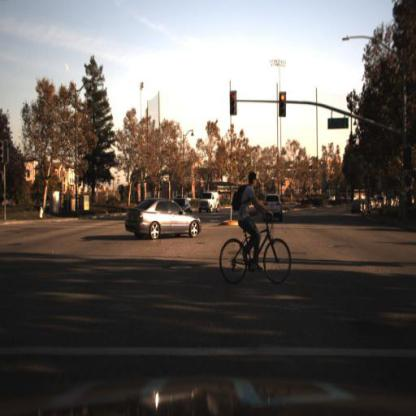biker: (220, 171, 296, 289), (219, 172, 294, 290)
car: (125, 192, 204, 238), (170, 197, 197, 226), (263, 191, 285, 224), (264, 193, 287, 222), (198, 191, 223, 216), (350, 198, 368, 219)
trafficLight-Red: (277, 88, 288, 122), (403, 146, 415, 174)
trafficLight-RedLeft: (229, 88, 239, 119)
